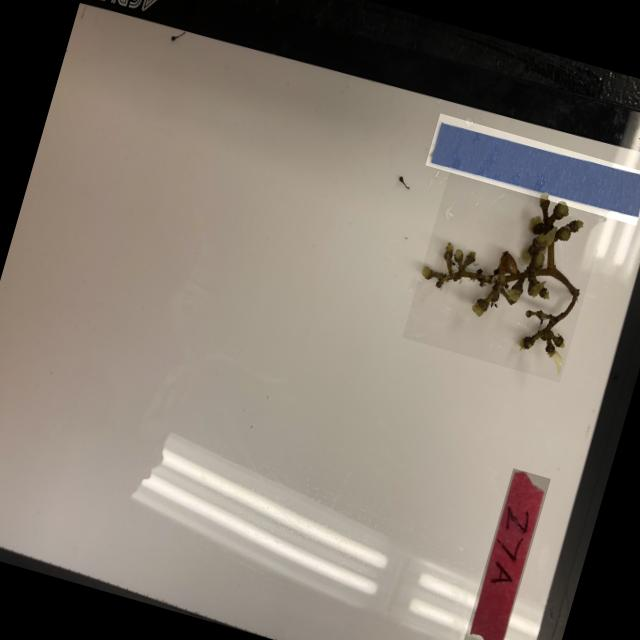index: (461, 467, 549, 640)
measure_label: (424, 113, 640, 225)
rachis_cluster: (400, 164, 608, 382)
